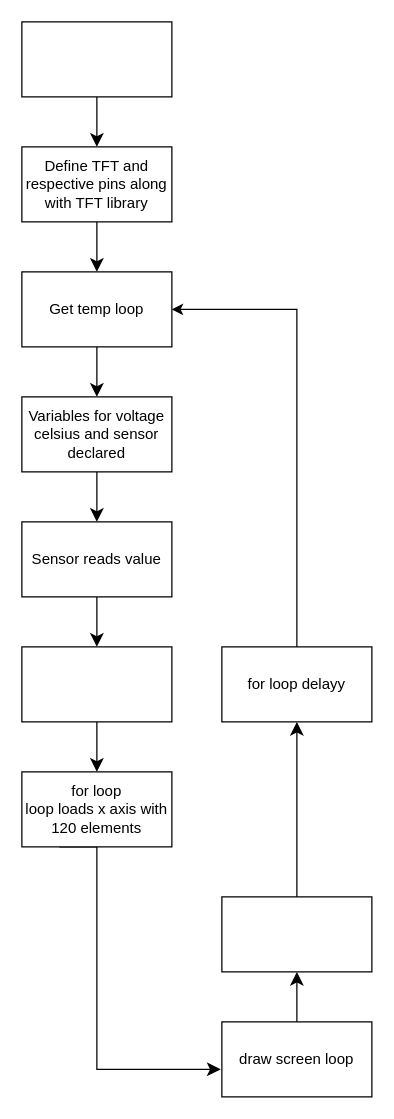
The diagram is 394 pixels wide and 1119 high, and some of its shapes have lost their labels. The centre of each missing label's shape, as x and y in pixels:
Start: (96,59)
TFT Initialize, draw graph with values.: (296,934)
Value Conversion to C: (96,684)
